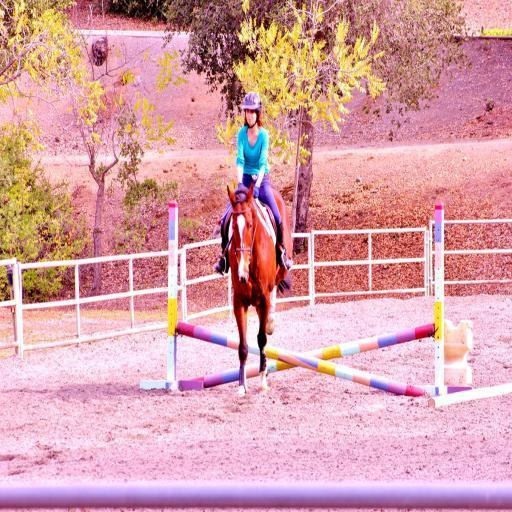horse: (226, 181, 292, 398)
